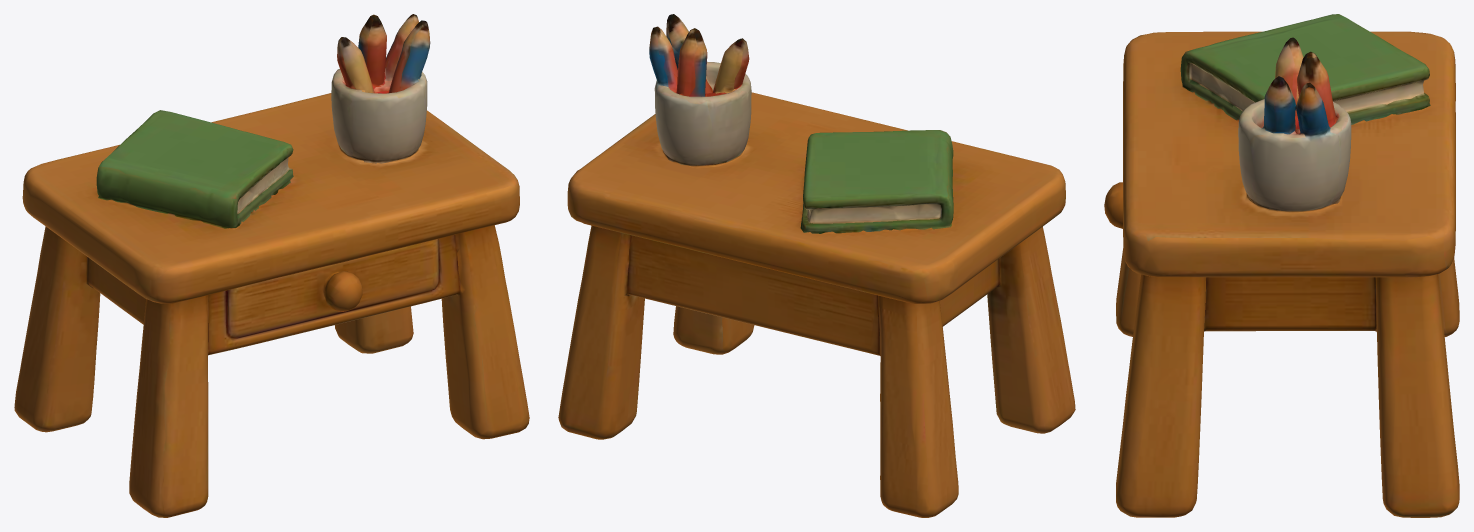
The model's file is desk_basic.glb.
3 renders of one model, left to right at view 1: azimuth 30°, elevation 25°; view 2: azimuth 150°, elevation 25°; view 3: azimuth 270°, elevation 25°, orthographic. The views are drawn at different scales.
Visible parts, largest first — view 1: textured_mesh.obj; view 2: textured_mesh.obj; view 3: textured_mesh.obj.
Boxes of the visible parts, box(x1,y1,x2,y2) form: textured_mesh.obj: box(14, 14, 529, 517); textured_mesh.obj: box(558, 14, 1075, 517); textured_mesh.obj: box(1104, 14, 1459, 517).
Size of what is drawn, in the model's own units: 0.9503 by 0.9 by 0.6781.
Materials: 1 (1 with a texture image).
